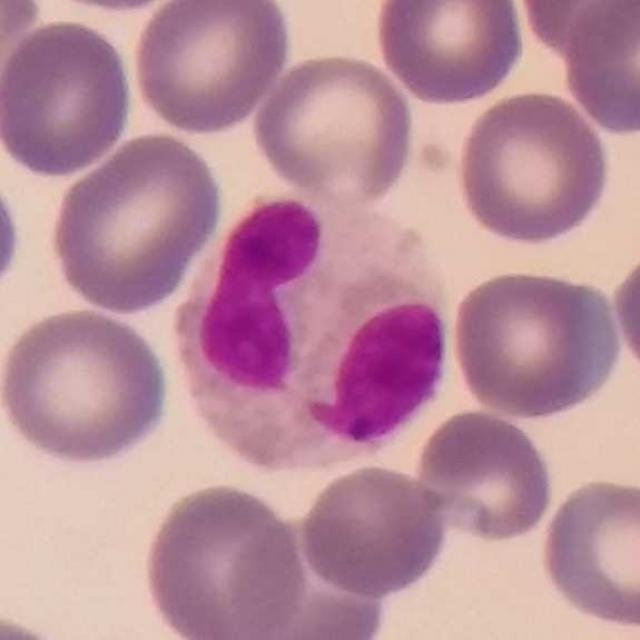eosino: (173, 183, 453, 474)
